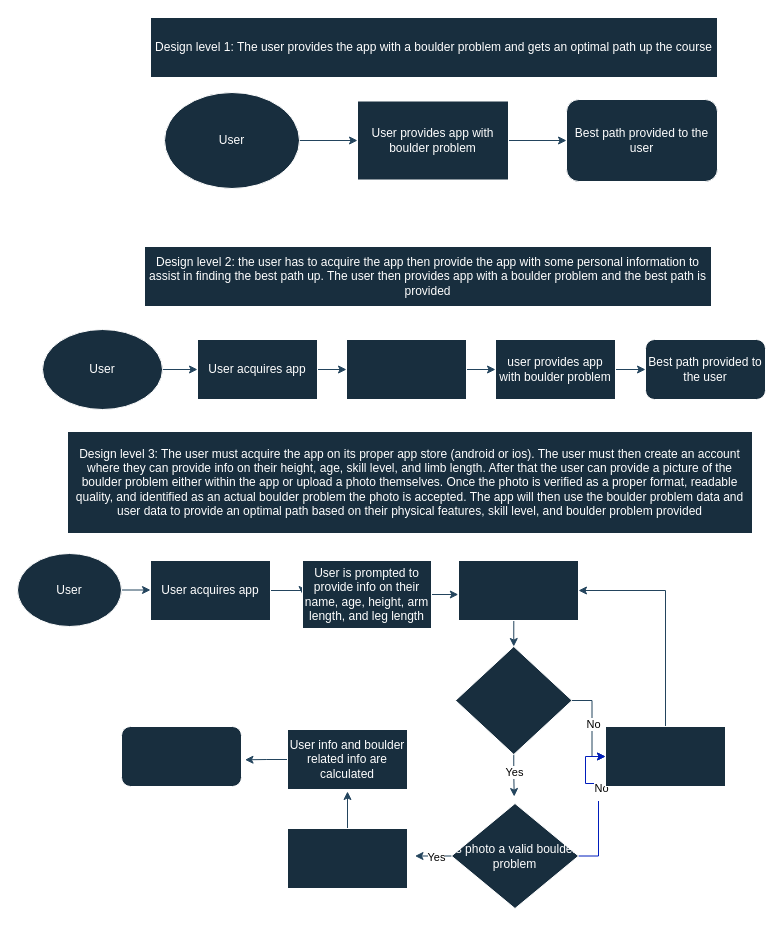
The diagram is 783 pixels wide and 926 high, and some of its shapes have lost their labels. Here are the shapes that lost their labels. From the top down, the centre of each, then its label:
[406,369]: User provides personal info to app
[518,590]: User is prompted to either provide a photo or take one within the app
[513,700]: Is photo a valid format?
[181,756]: Best path is provided to the user
[665,756]: User is asked to provide a valid photo of a boulder problem
[347,858]: Photo is read for boulder points and other hazards
